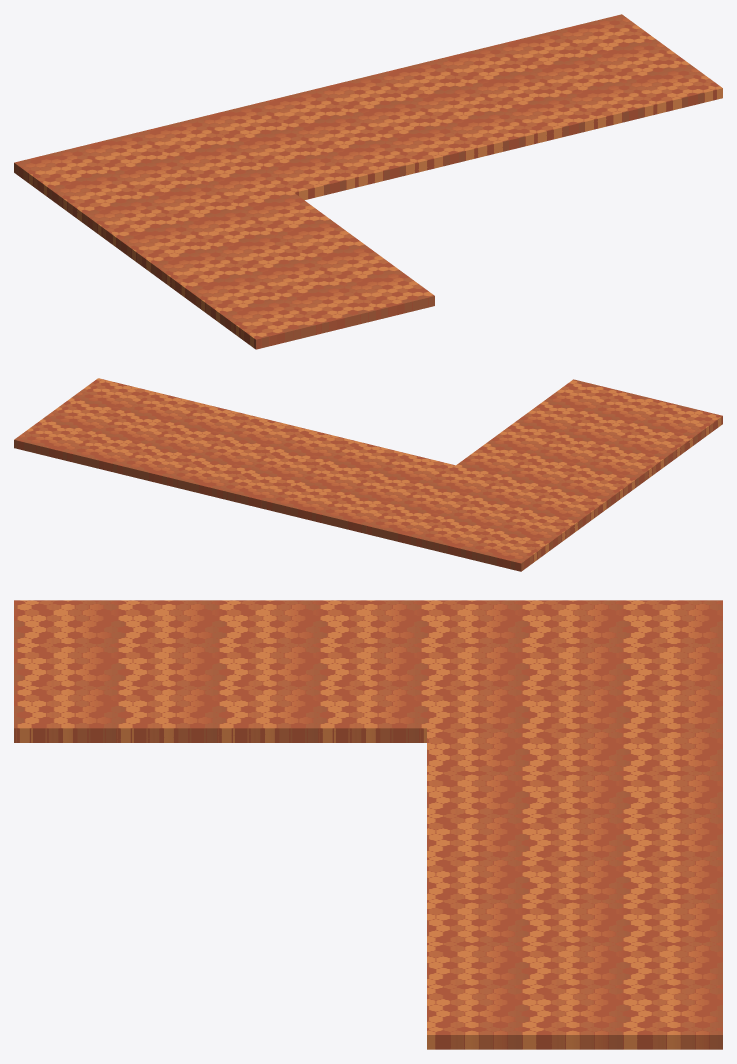
File: Groundtile.fbx
3 views of the same model, one above another, from view 1: azimuth 30°, elevation 25°; view 2: azimuth 150°, elevation 25°; view 3: azimuth 270°, elevation 25° (orthographic). The views are drawn at different scales.
Parts seen in each view (by area): view 1: Plane.142; view 2: Plane.142; view 3: Plane.142.
Boxes of the visible parts, x1,y1,x2,y2 form: Plane.142: (14, 14, 722, 349); Plane.142: (14, 378, 722, 571); Plane.142: (14, 600, 722, 1049).
Size of the model in its own units: 746 by 11.71 by 514.
